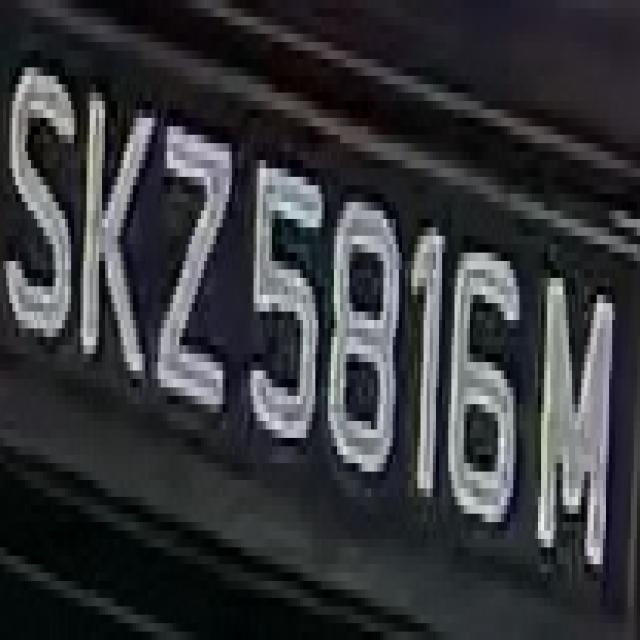1: (399, 135, 439, 505)
5: (241, 126, 319, 455)
6: (446, 185, 520, 564)
8: (315, 168, 402, 506)
K: (77, 50, 152, 388)
M: (526, 236, 618, 564)
S: (6, 51, 77, 362)
Z: (154, 92, 228, 454)
